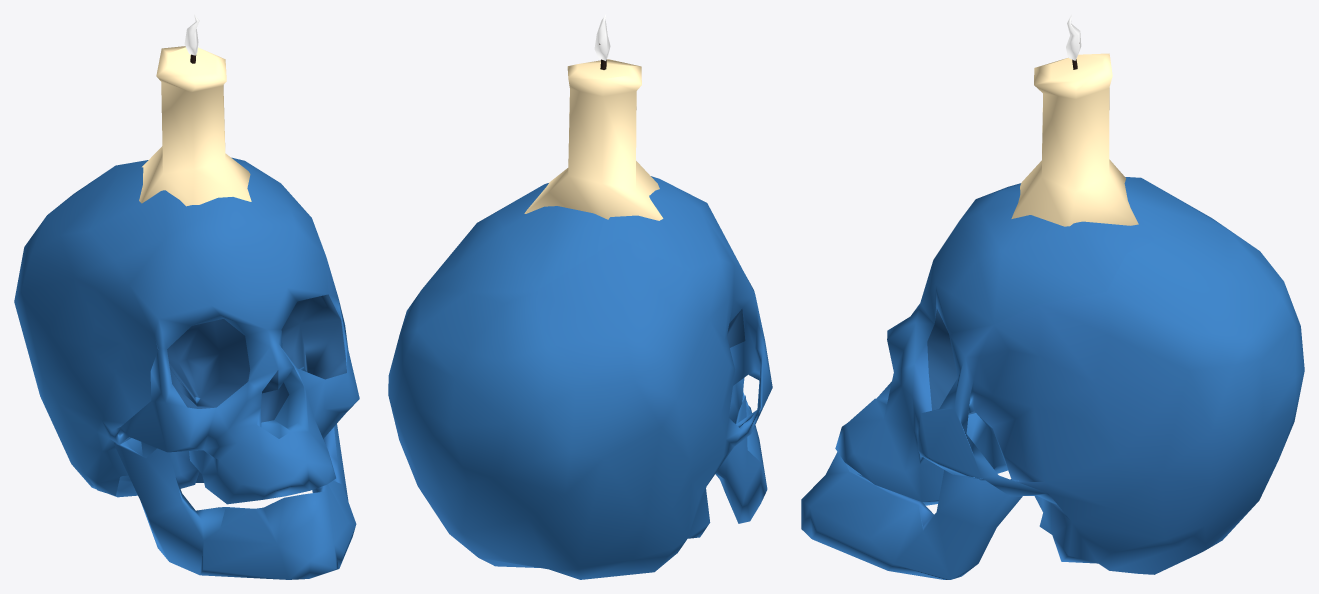
The model's file is CandleSkullShapeB.009.glb.
The picture shows the model from 3 angles, left to right: view 1: azimuth 30°, elevation 25°; view 2: azimuth 150°, elevation 25°; view 3: azimuth 270°, elevation 25°; orthographic projection. The views are drawn at different scales.
Parts seen in each view (by area): view 1: CandleSkullShapeB.009; view 2: CandleSkullShapeB.009; view 3: CandleSkullShapeB.009.
Boxes of the visible parts, box(x1,y1,x2,y2) form: CandleSkullShapeB.009: box(14, 14, 359, 579); CandleSkullShapeB.009: box(388, 14, 772, 579); CandleSkullShapeB.009: box(801, 14, 1304, 579).
Bounding box in the file's own units: 0.2005 × 0.3649 × 0.3132.
Materials: 2 (2 with a texture image).
